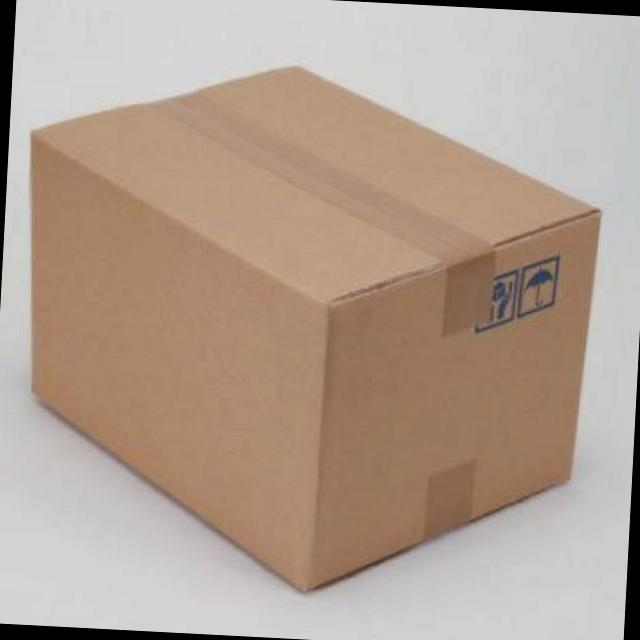box: (0, 38, 629, 609)
